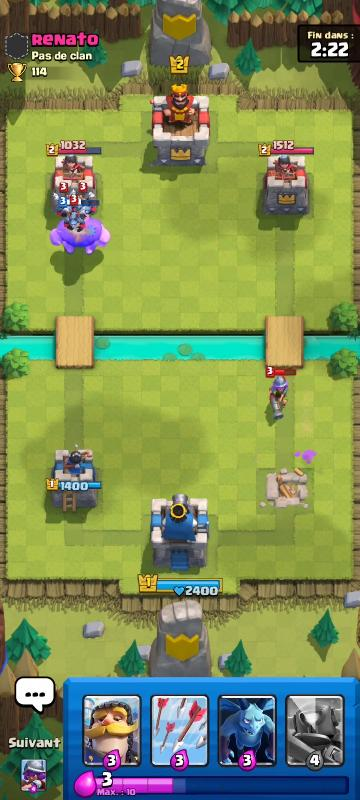gargouille: (56, 211, 90, 230), (50, 187, 74, 212), (79, 191, 100, 210)
geant: (54, 217, 111, 261)
mousquetaire: (266, 372, 290, 407)
